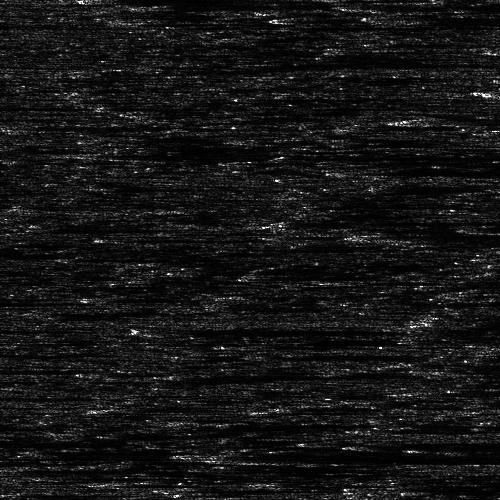object: (362, 113, 500, 126), (328, 226, 421, 245), (149, 450, 264, 463), (360, 11, 433, 24), (306, 442, 421, 449), (414, 221, 500, 230), (322, 167, 405, 176), (0, 465, 69, 474), (0, 125, 63, 132), (306, 496, 399, 500), (126, 2, 179, 9), (246, 219, 319, 224), (246, 352, 309, 357), (307, 0, 442, 2), (104, 150, 157, 155), (474, 87, 500, 96), (408, 391, 449, 396), (142, 325, 163, 334), (99, 480, 130, 485), (164, 373, 205, 376), (495, 43, 500, 56), (495, 145, 500, 154), (83, 0, 124, 1)
shadow: (207, 450, 500, 463), (375, 226, 500, 245), (153, 325, 368, 334), (12, 465, 214, 474), (17, 125, 227, 132), (397, 11, 500, 24), (364, 167, 500, 176), (283, 219, 500, 224), (153, 2, 305, 9), (364, 442, 500, 449), (277, 352, 446, 357), (131, 150, 295, 155), (445, 113, 500, 126), (185, 373, 399, 376), (0, 393, 78, 400), (0, 297, 76, 304), (0, 365, 79, 370), (466, 221, 500, 230), (429, 391, 487, 396), (114, 480, 167, 485), (375, 0, 500, 2), (353, 496, 409, 500), (104, 0, 256, 1), (0, 117, 42, 120)
